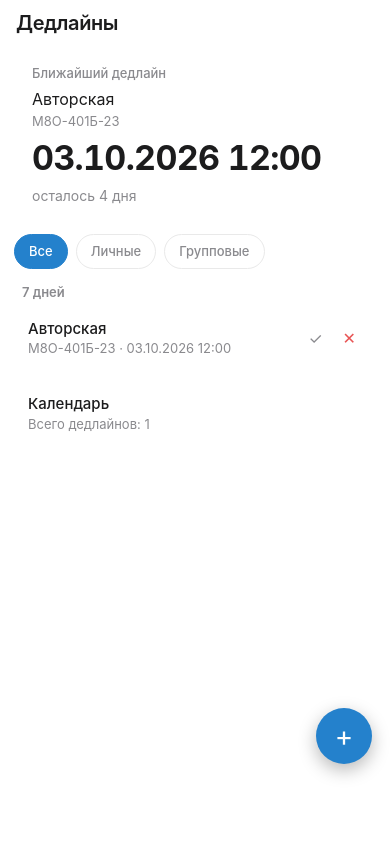
Test: DeadlinesScreen: права на действия › автор-участник видит кнопки на своём групповом дедлайне и открывает форму
The image size is (390, 844).
Expected: the element with test id "cell-3" is shown, [14,308,376,369]
Expected: the button with test id "complete-3" is shown, [300,320,331,356]
Форма правки открывается и тоже даёт действия (единый предикат).
Click the text "Авторская" at (67, 328), box [28,319,106,338]
(page scrolled)
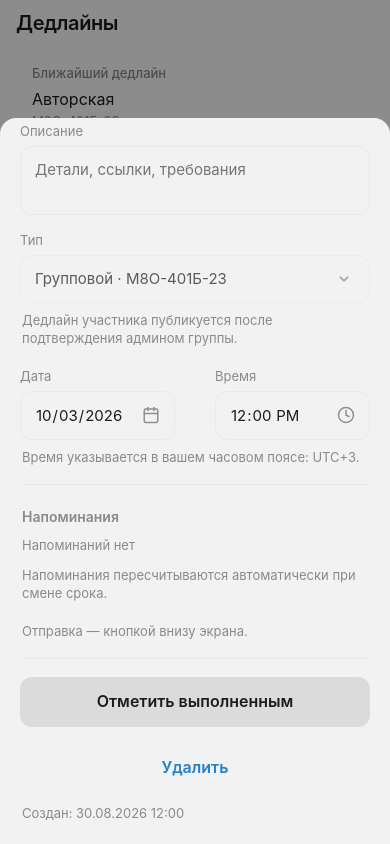
Result: the button with test id "sheet-complete" is shown at [20,677,370,727]
